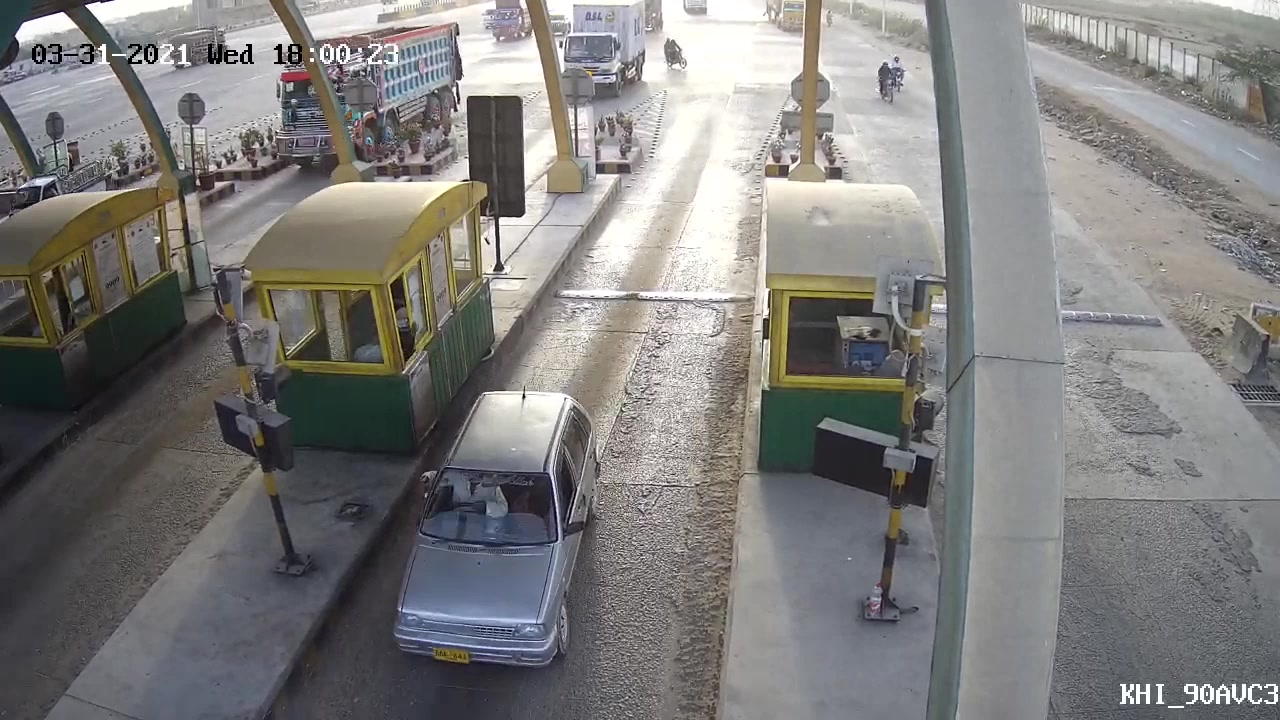F1: (386, 381, 614, 671)
